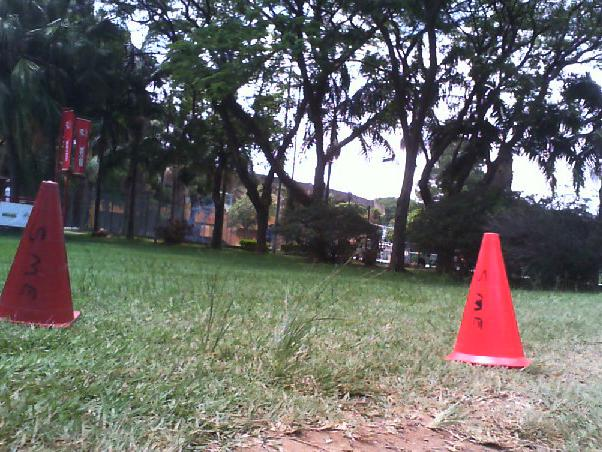0 cone: (444, 233, 534, 370), (0, 180, 81, 328)
